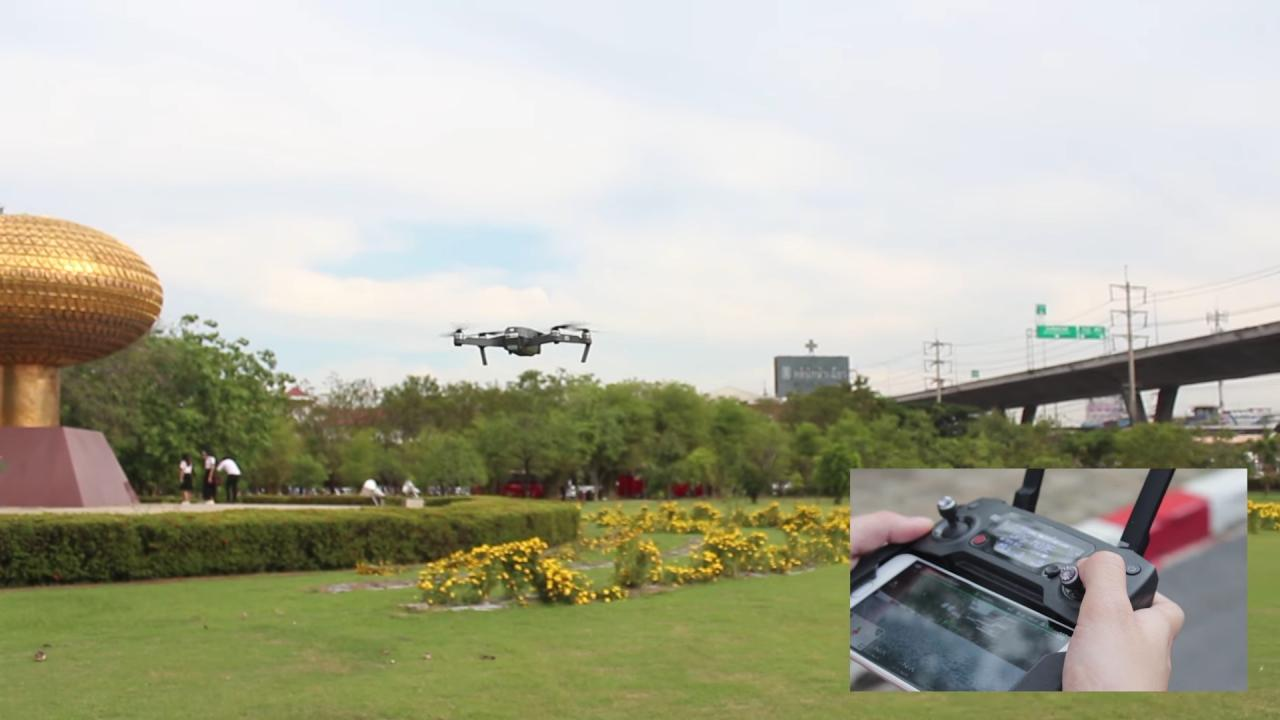Drone: (424, 308, 624, 373)
